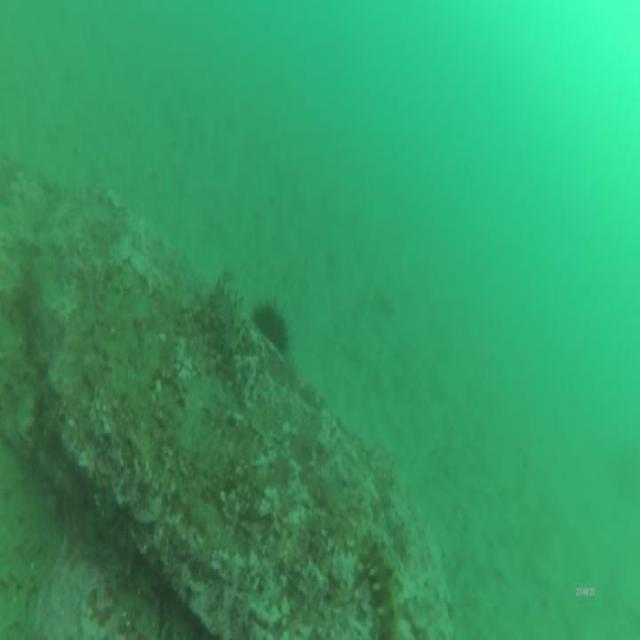echinus: (249, 296, 292, 365)
holothurian: (204, 275, 263, 416), (352, 523, 404, 640)
